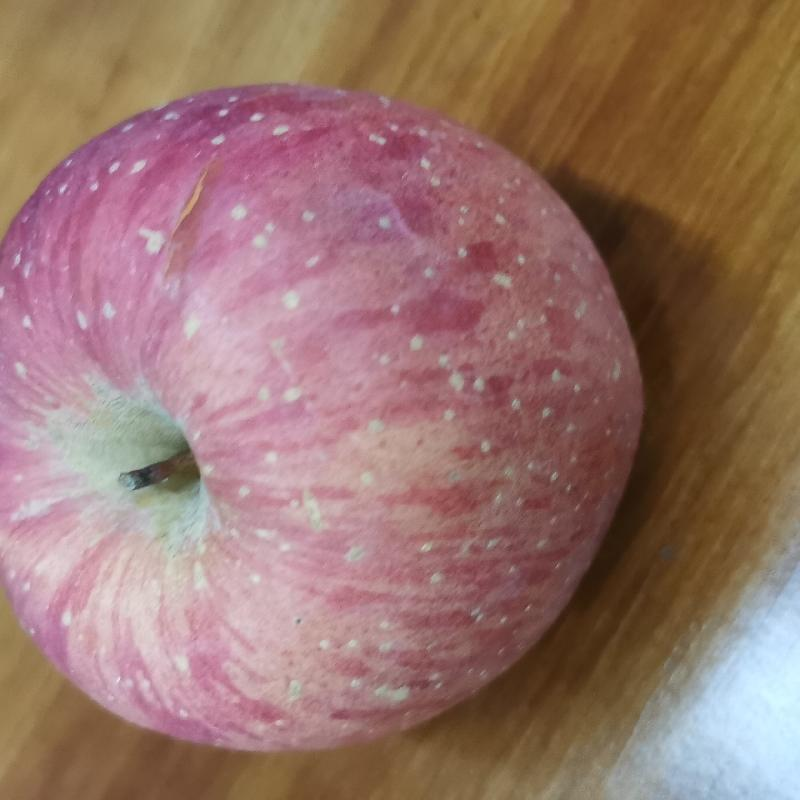apples: (3, 77, 646, 750)
